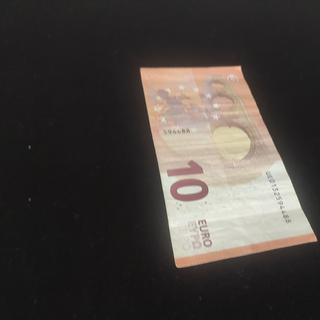10EUROBack: (139, 65, 318, 268)
